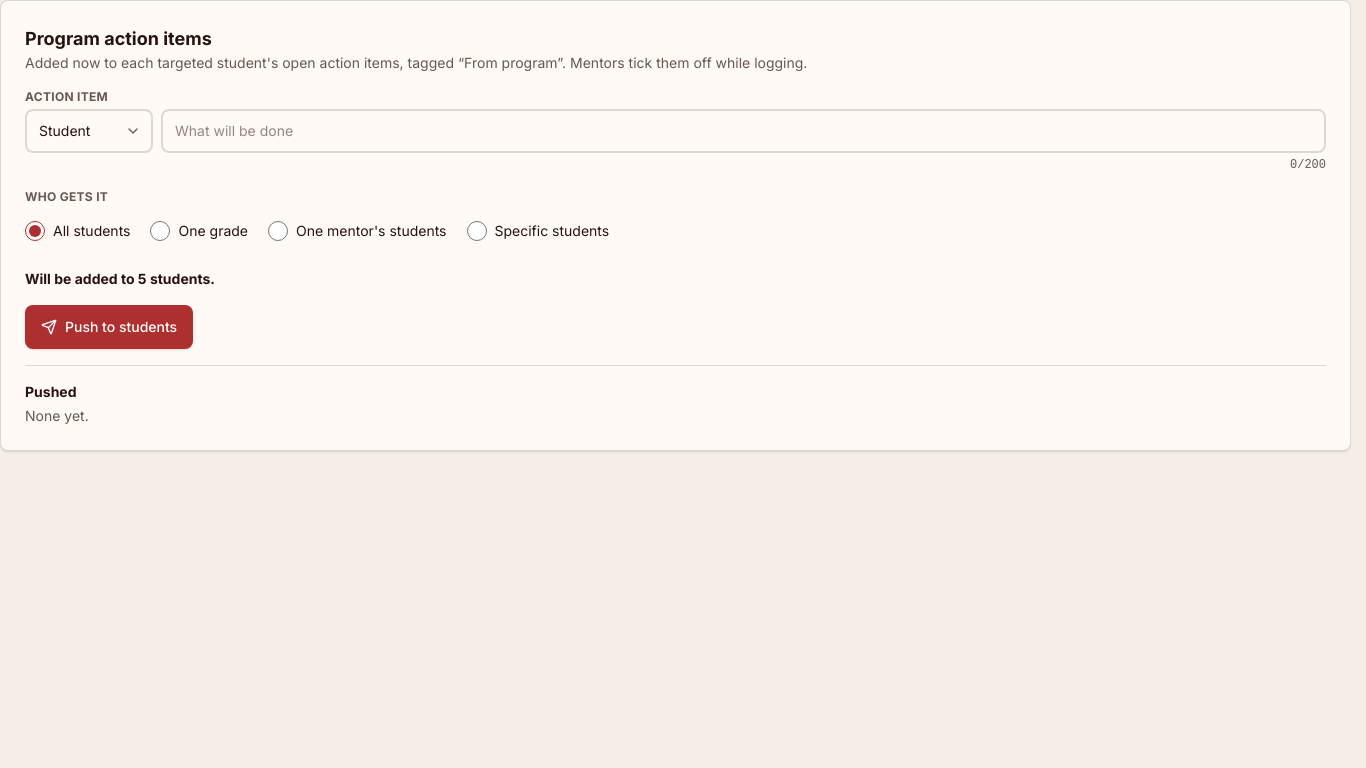
Test: CommonActionItemsManager — a new item › previews the target's count, confirms, pushes and resets
The image size is (1366, 768).
expect the text "Will be added to 5 students." is shown: met, box left=25, top=270, right=215, bottom=287
Type "Fill in the scholarship form" into the field labelled "Action item" at (744, 131), box left=161, top=109, right=1326, bottom=153
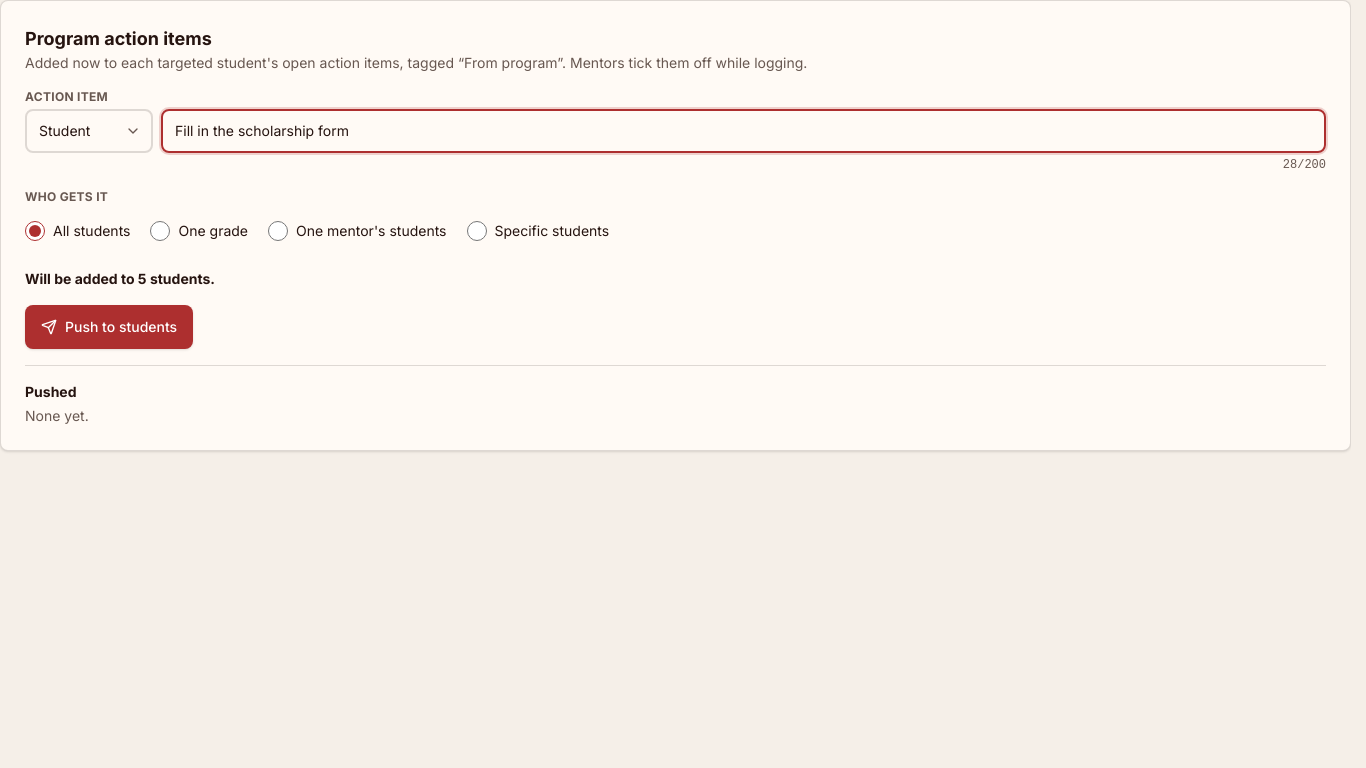
expect the text "28/200" is shown: met, box left=1283, top=157, right=1326, bottom=173
Select "Mentor" in the dropdown named "Who does it" at (89, 131), box left=25, top=109, right=153, bottom=153
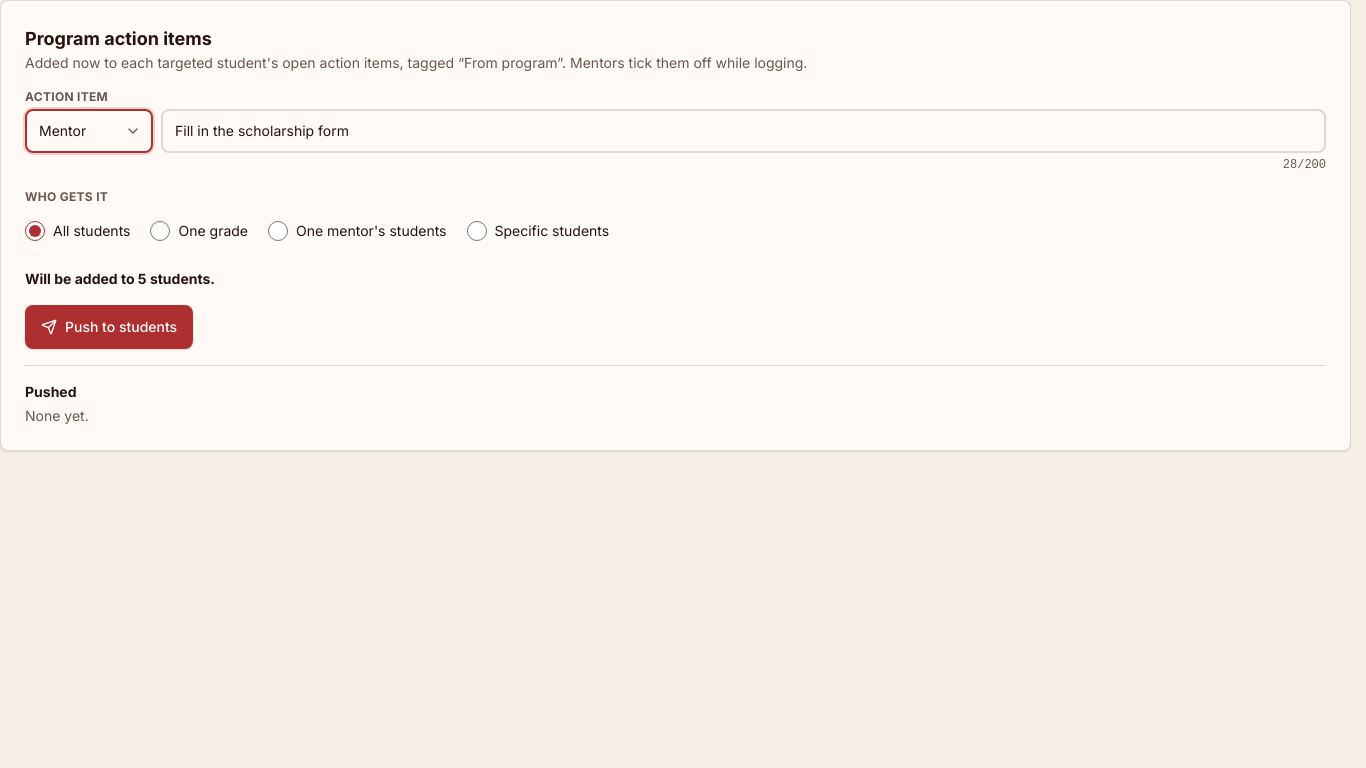
Click the radio button labelled "One mentor's students" at (278, 231), box left=268, top=221, right=288, bottom=241
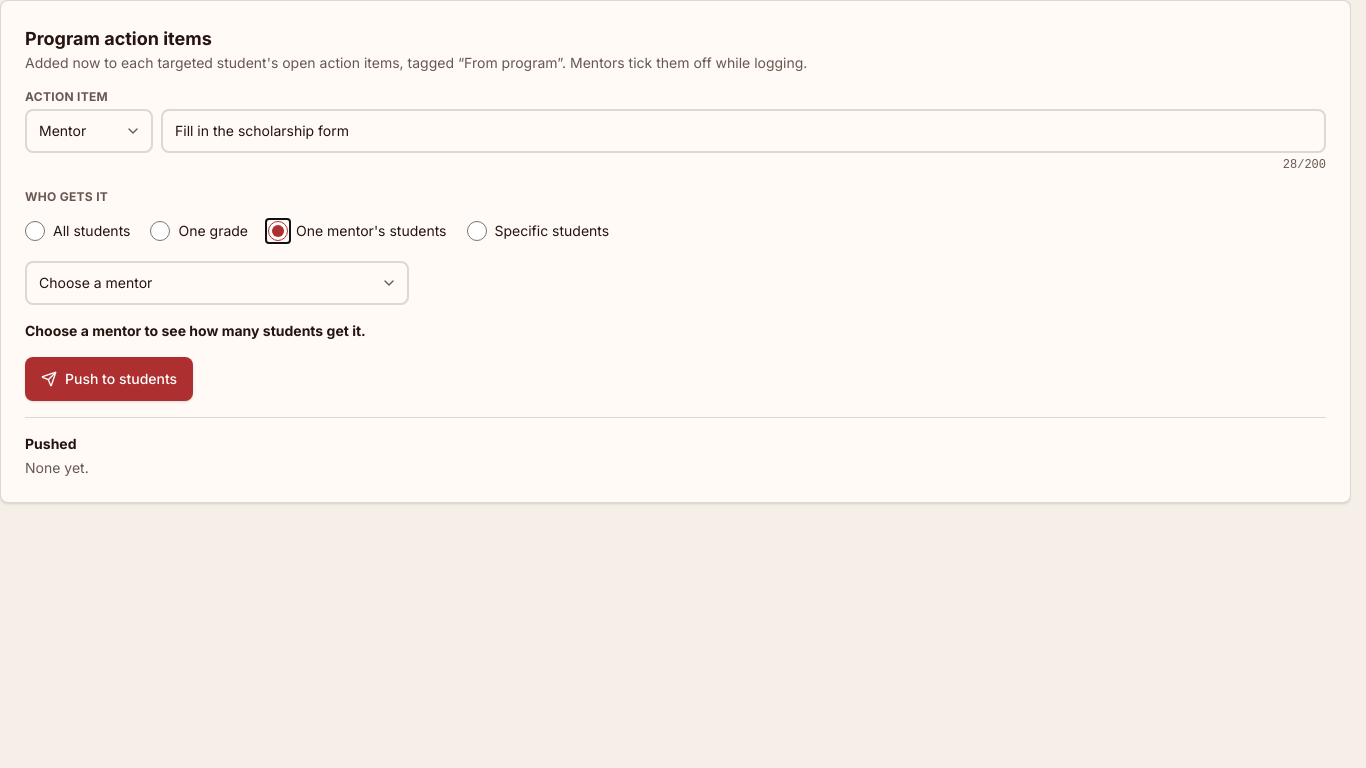
expect the text "Choose a mentor to see how many students get it." is shown: met, box left=25, top=322, right=366, bottom=339
Select "Faizan Khan (3 students)" in the dropdown named "Mentor" at (217, 283), box left=25, top=261, right=409, bottom=305
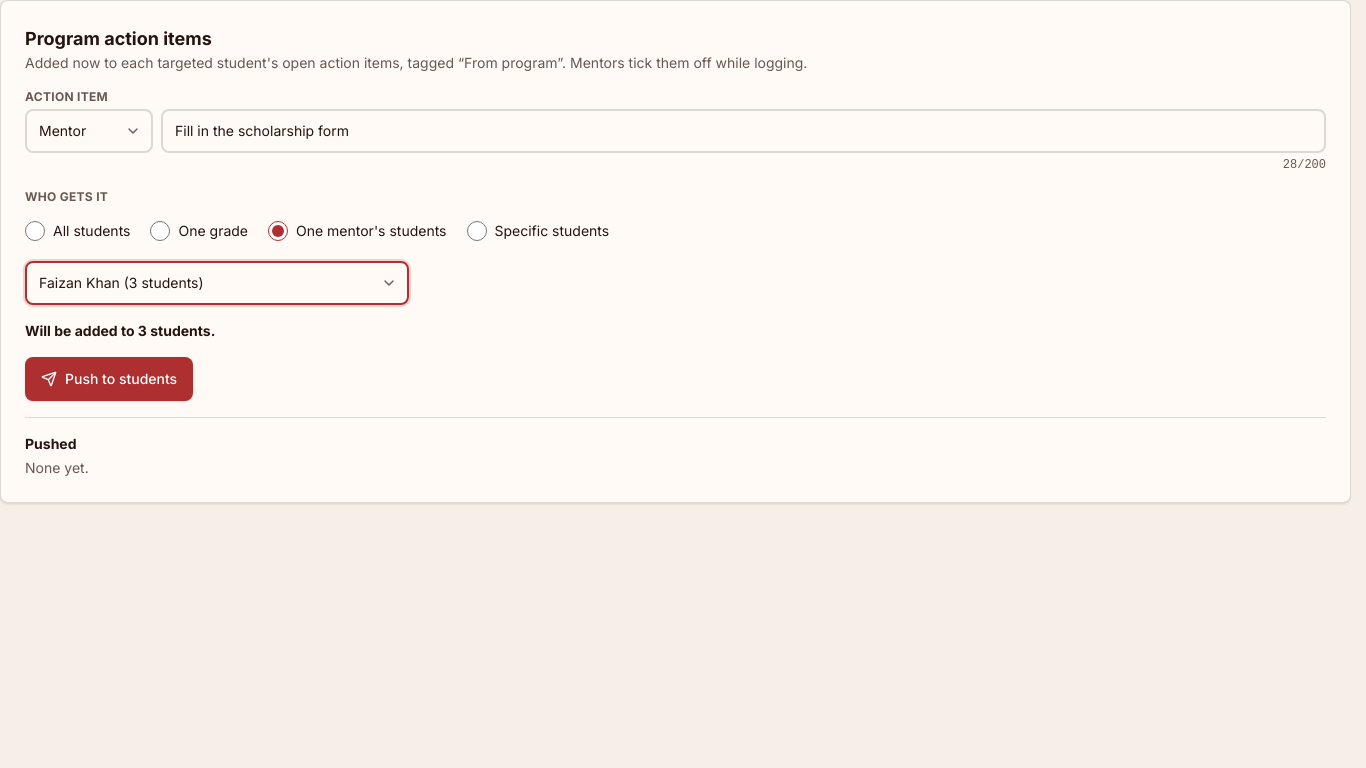
expect the text "Will be added to 3 students." is shown: met, box left=25, top=322, right=215, bottom=339
Click the button "Push to students" at (109, 379), box left=25, top=357, right=193, bottom=401
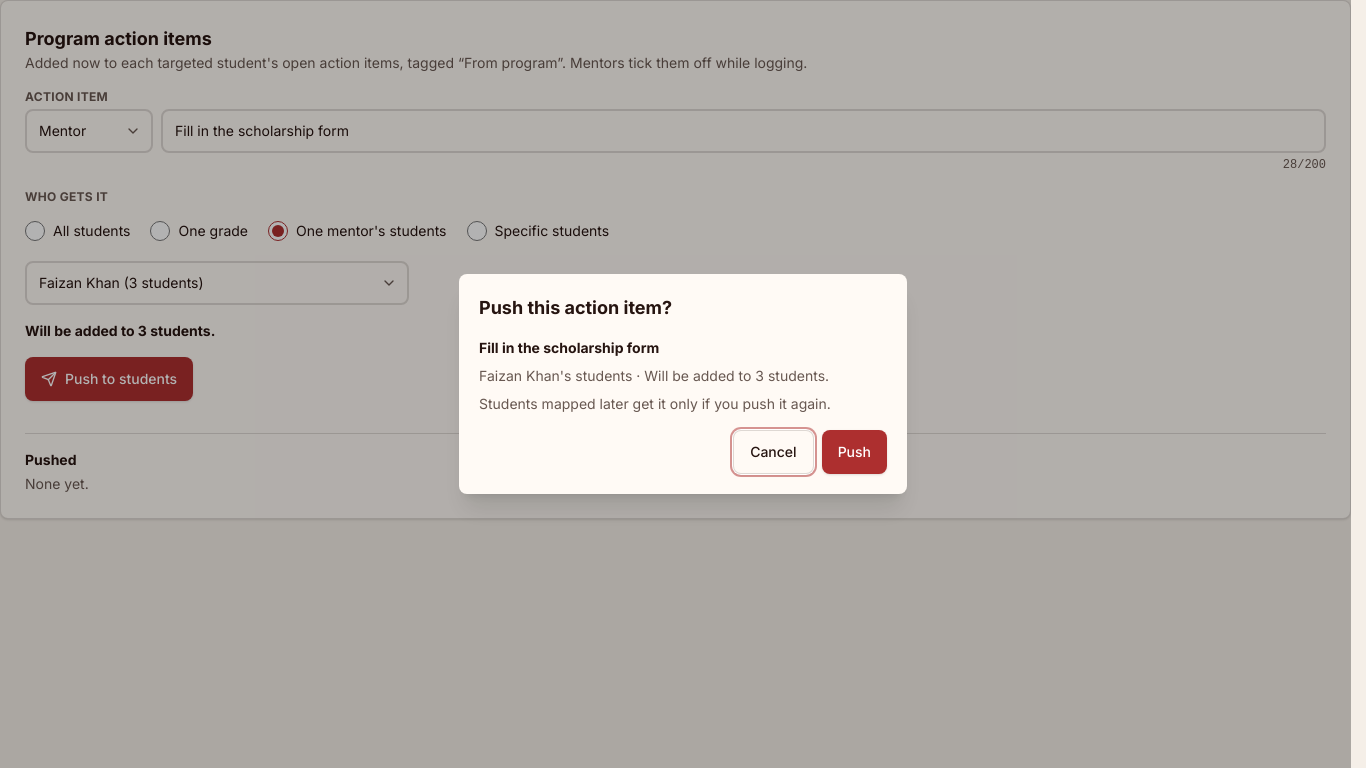
expect the dialog "Push this action item?" shows "Fill in the scholarship form": met, box left=479, top=339, right=659, bottom=356
expect the dialog "Push this action item?" shows "Faizan Khan's students · Will be added to 3 students.": met
Click the button "Push" at (854, 452), box left=822, top=430, right=887, bottom=474
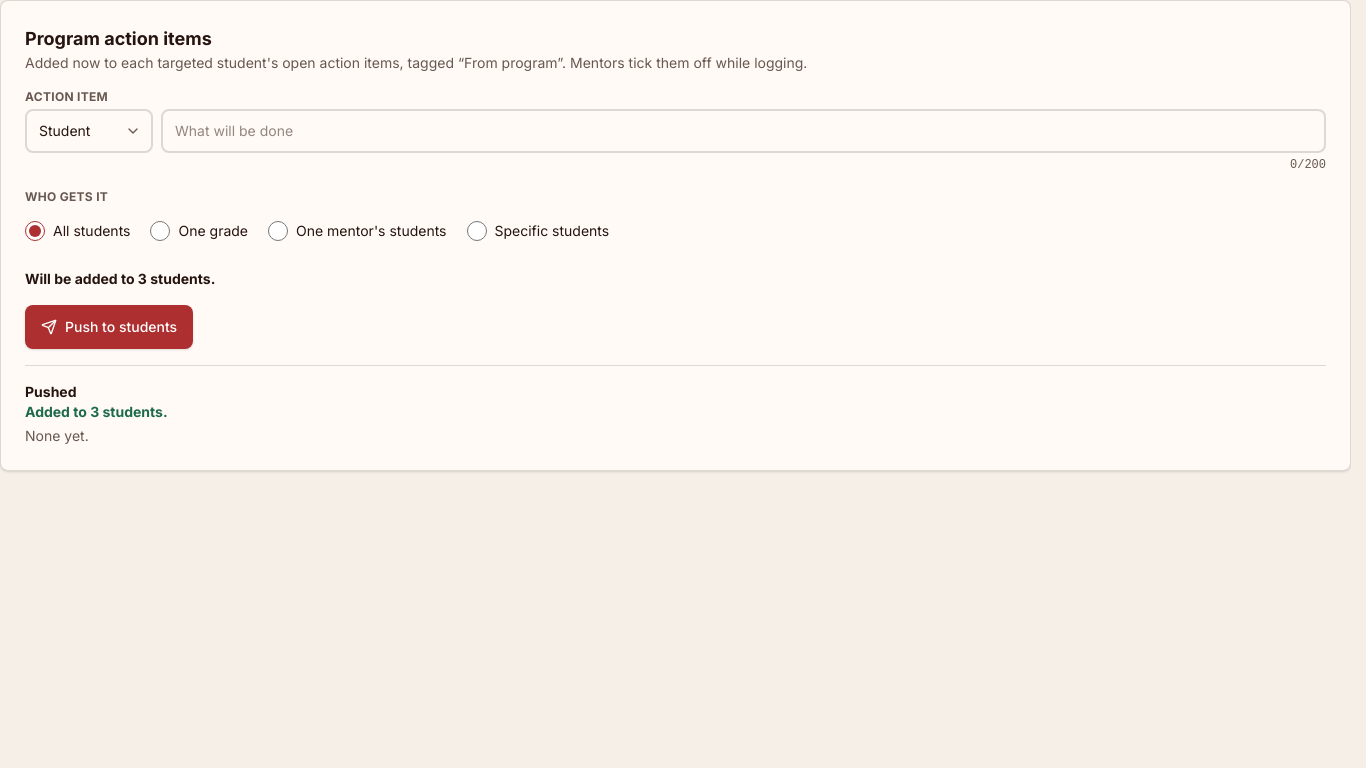
expect the message reads "Added to 3 students.": met, box left=25, top=403, right=168, bottom=420
expect the dialog is gone: met
expect the field labelled "Action item" is empty: met, box left=161, top=109, right=1326, bottom=153
